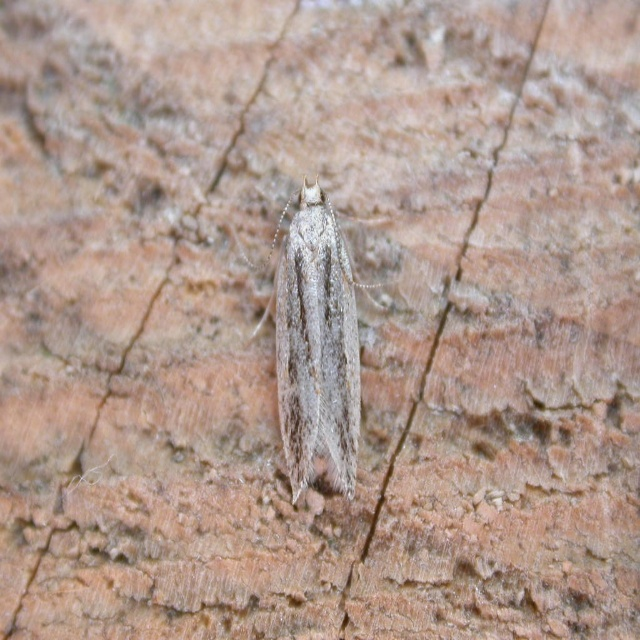Moths and butterflies: (229, 169, 389, 505)
